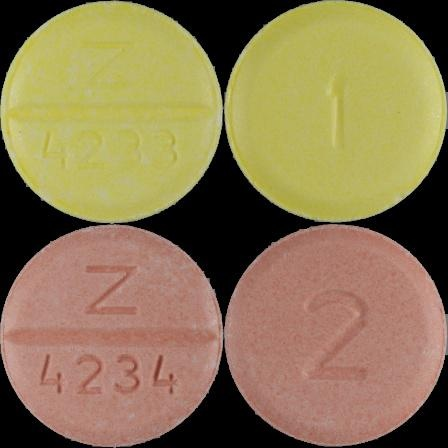50436-4233: (0, 0, 224, 224)
